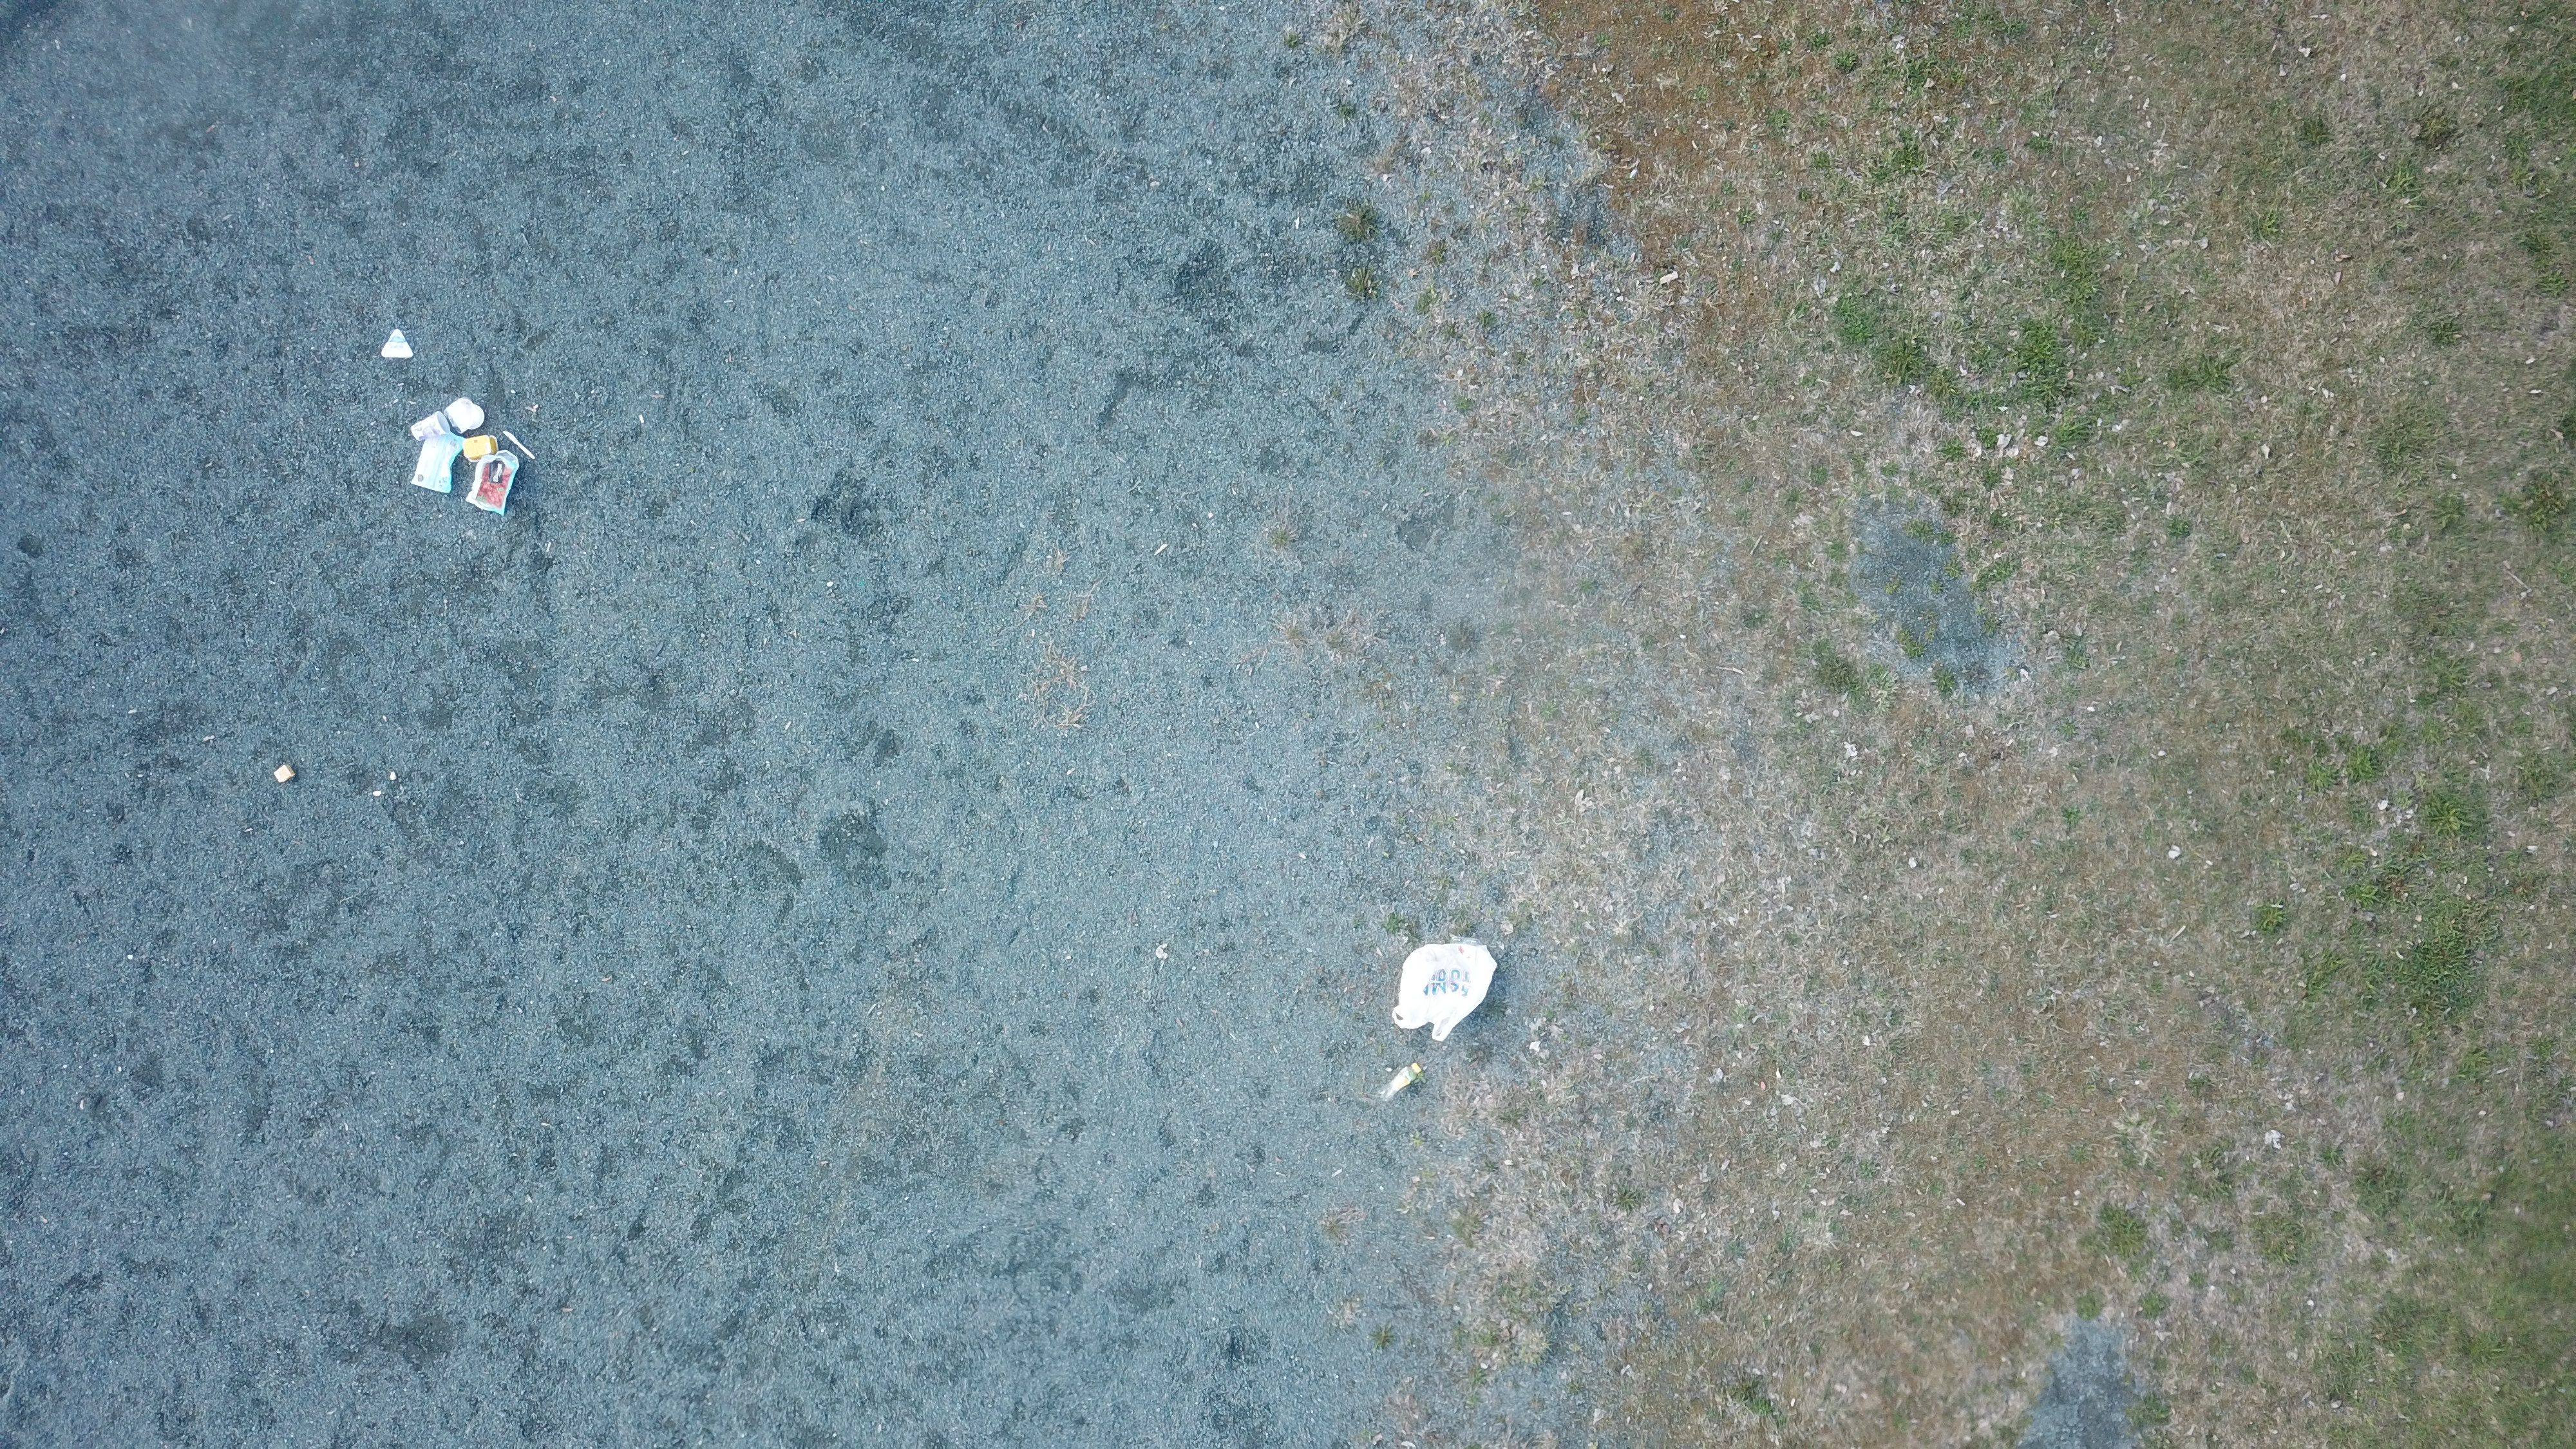Plastic: (1392, 939, 1497, 1039), (465, 455, 522, 517), (412, 432, 467, 495), (446, 398, 488, 432), (410, 414, 455, 441), (502, 430, 538, 460), (382, 327, 414, 359), (462, 435, 497, 462), (272, 764, 297, 786)
PlasticBottle: (1380, 1063, 1421, 1102)
